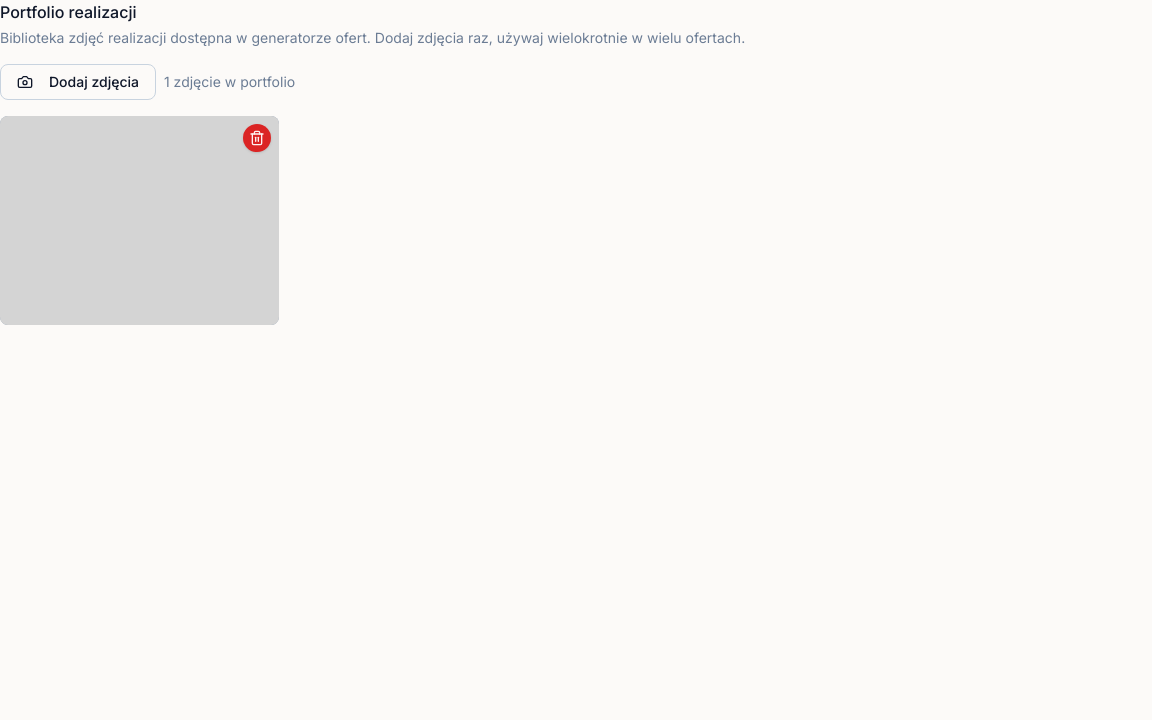
Test: OfferPortfolioSection › shows the cascade-aware confirm dialog before deleting
Later steps or results of the test are not shown.
Click the button named "Usuń zdjęcie" at (257, 138), box left=243, top=124, right=271, bottom=152
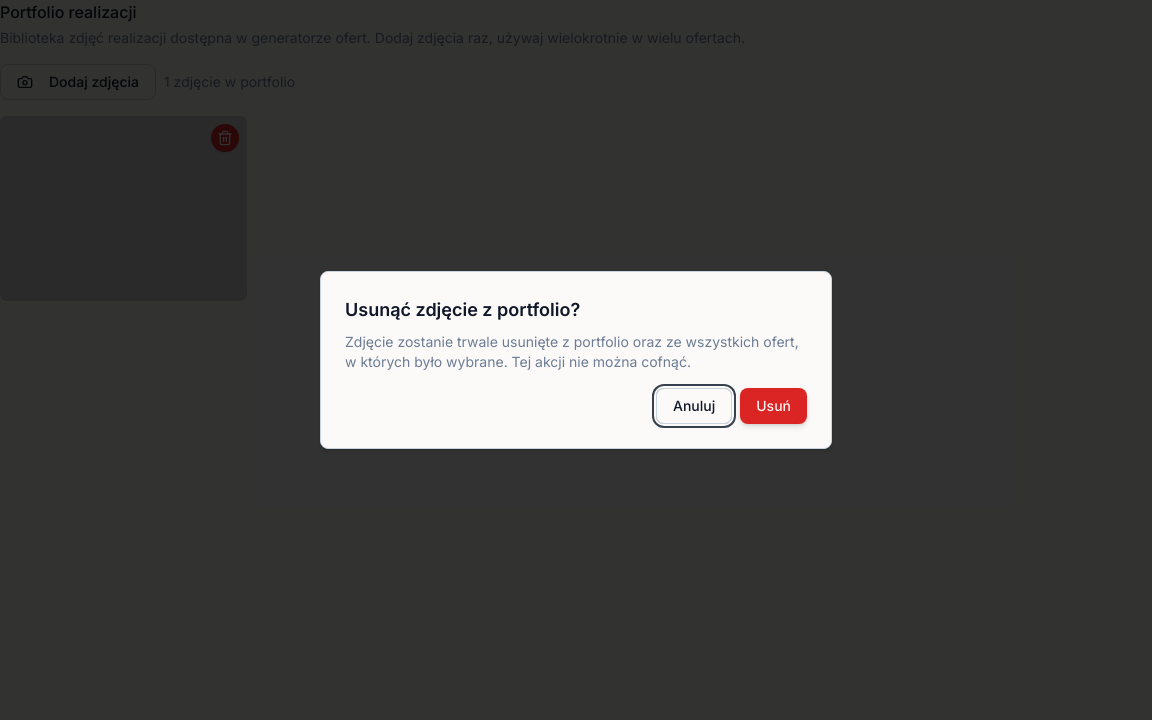
Now the text "nie można cofnąć" is shown, box left=345, top=333, right=799, bottom=370
